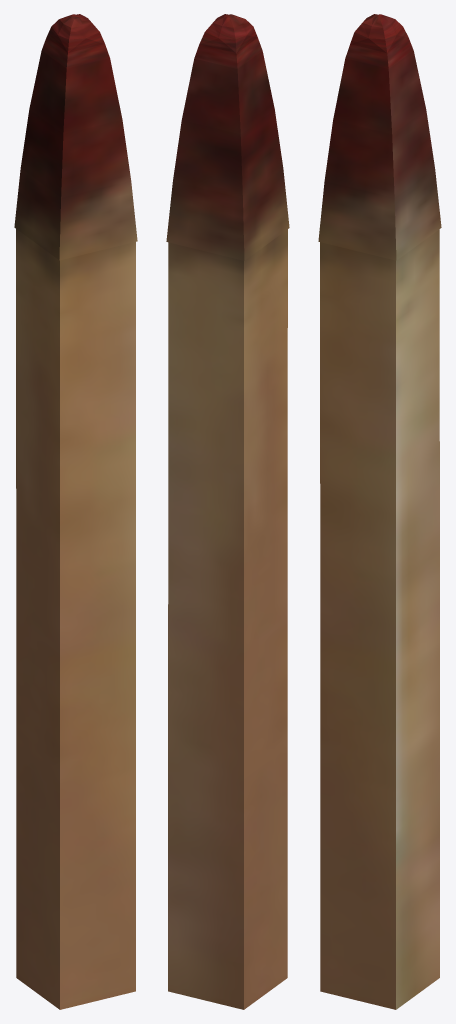
File: hx_hxyq_hxmt.FBX
3 views of the same model, side by side, from view 1: azimuth 30°, elevation 25°; view 2: azimuth 150°, elevation 25°; view 3: azimuth 330°, elevation 25° (orthographic).
Visible parts, largest first — view 1: hx_hxyq_hc_hxmt, hx_hxyq_hc_hx; view 2: hx_hxyq_hc_hxmt, hx_hxyq_hc_hx; view 3: hx_hxyq_hc_hxmt, hx_hxyq_hc_hx.
Part boxes in pixels (x1,y1,x2,y2): hx_hxyq_hc_hxmt: (16, 229, 135, 1009); hx_hxyq_hc_hx: (14, 14, 137, 260); hx_hxyq_hc_hxmt: (168, 229, 287, 1009); hx_hxyq_hc_hx: (166, 14, 289, 260); hx_hxyq_hc_hxmt: (320, 229, 439, 1009); hx_hxyq_hc_hx: (318, 14, 441, 260).
Bounding box in the file's own units: 1.39 × 16.42 × 1.39.
1 material, 1 textured.
